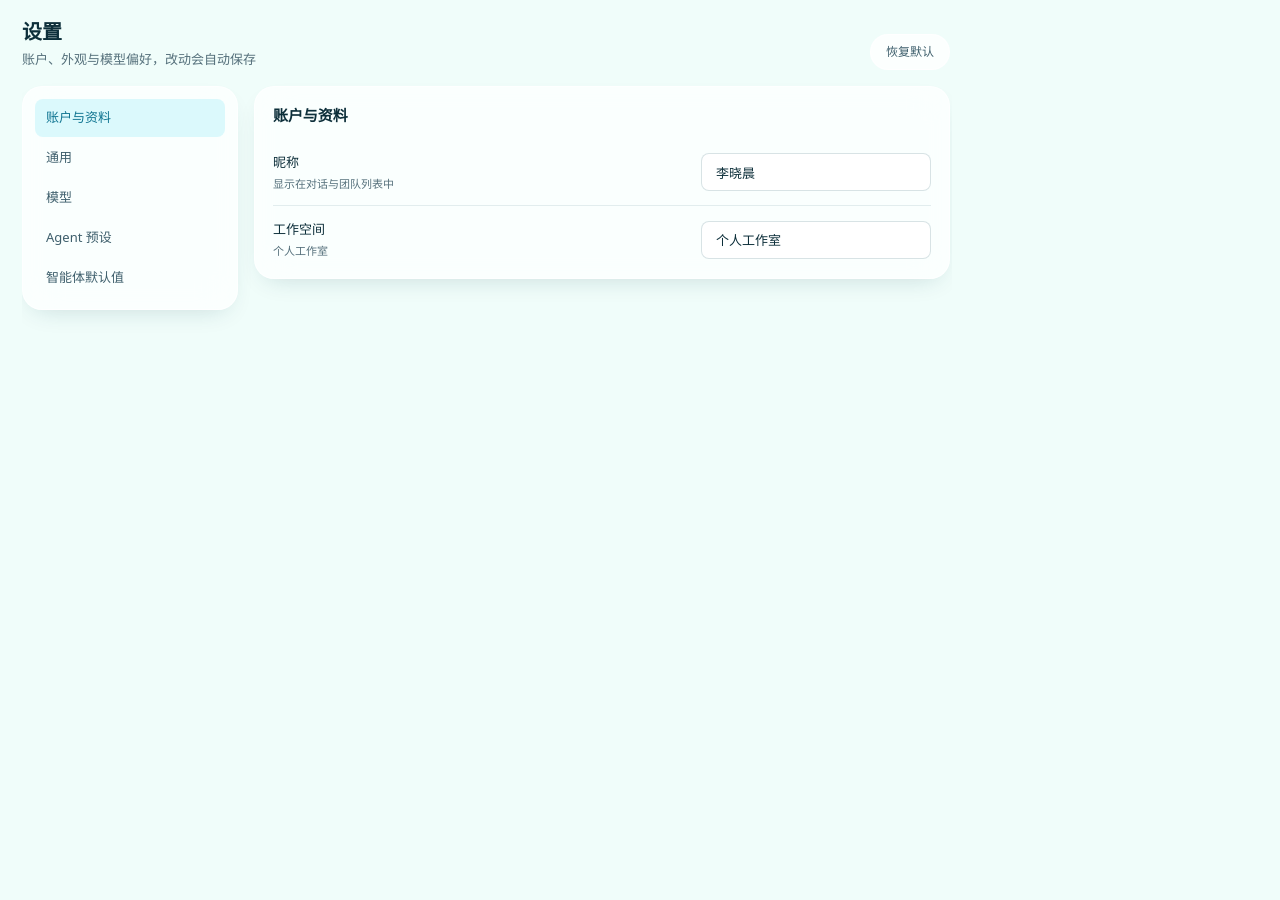
Scenario: the help dialog switches to 如何使用 without changing the default
The width and height of the screenshot is (1280, 900).
expect the heading "设置" is shown: met, box [22,18,62,45]
Click the button "Agent 预设" at (130, 238), box [35,219,225,257]
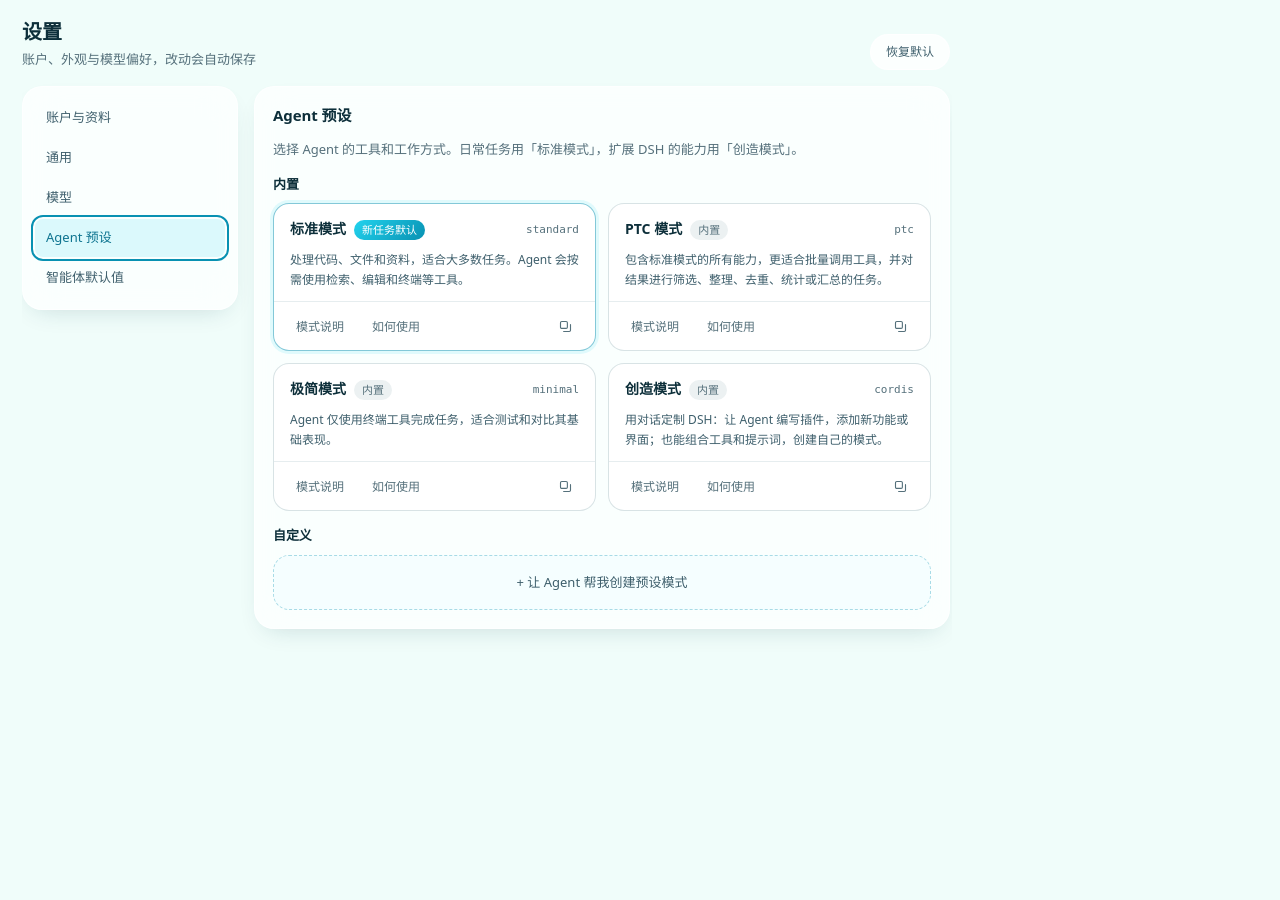
Click the 2nd button "如何使用" at (731, 326), box [701,316,761,337]
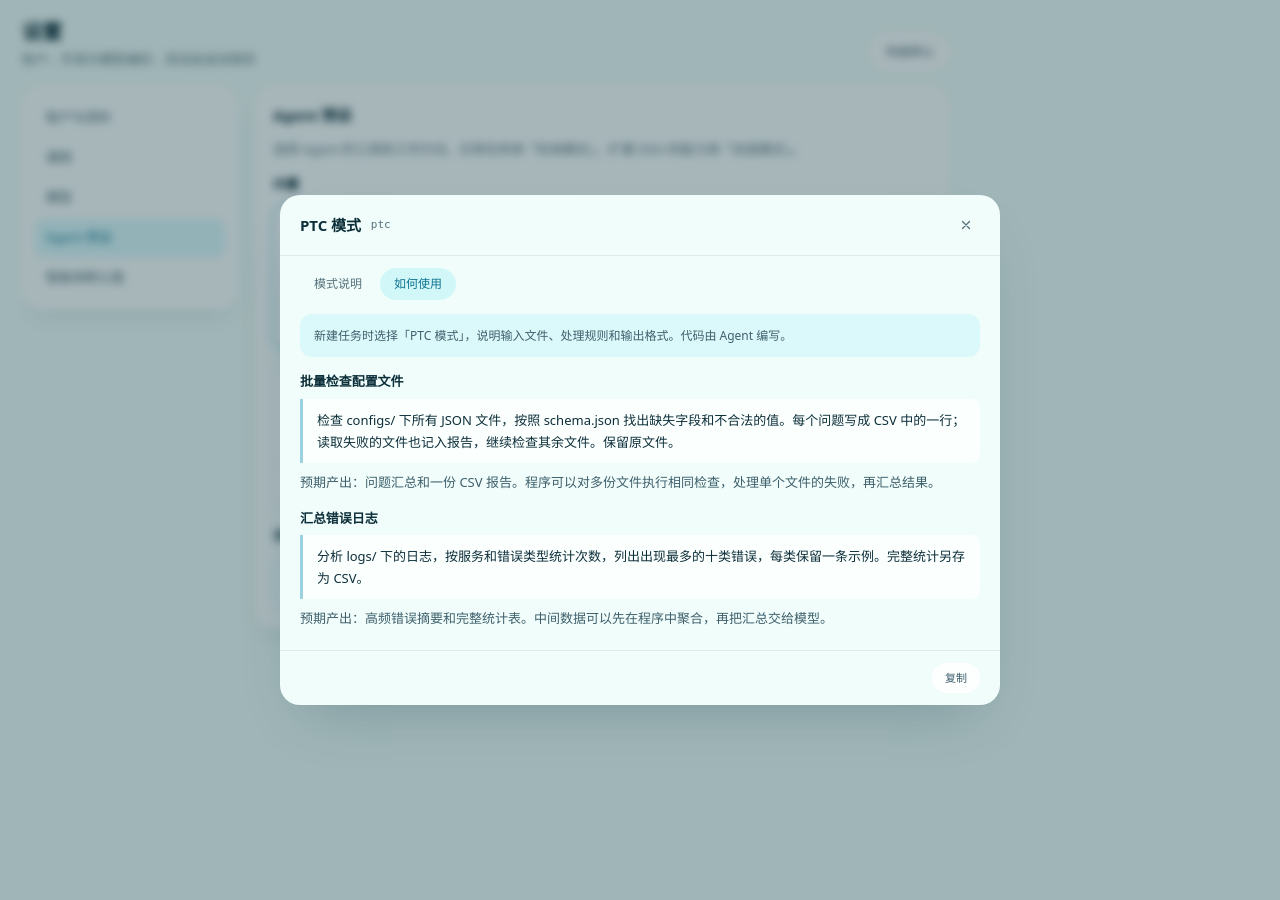
expect the heading "批量检查配置文件" is shown: met, box [300,372,404,390]
Click the tab "模式说明" at (338, 284), box [300,268,376,300]
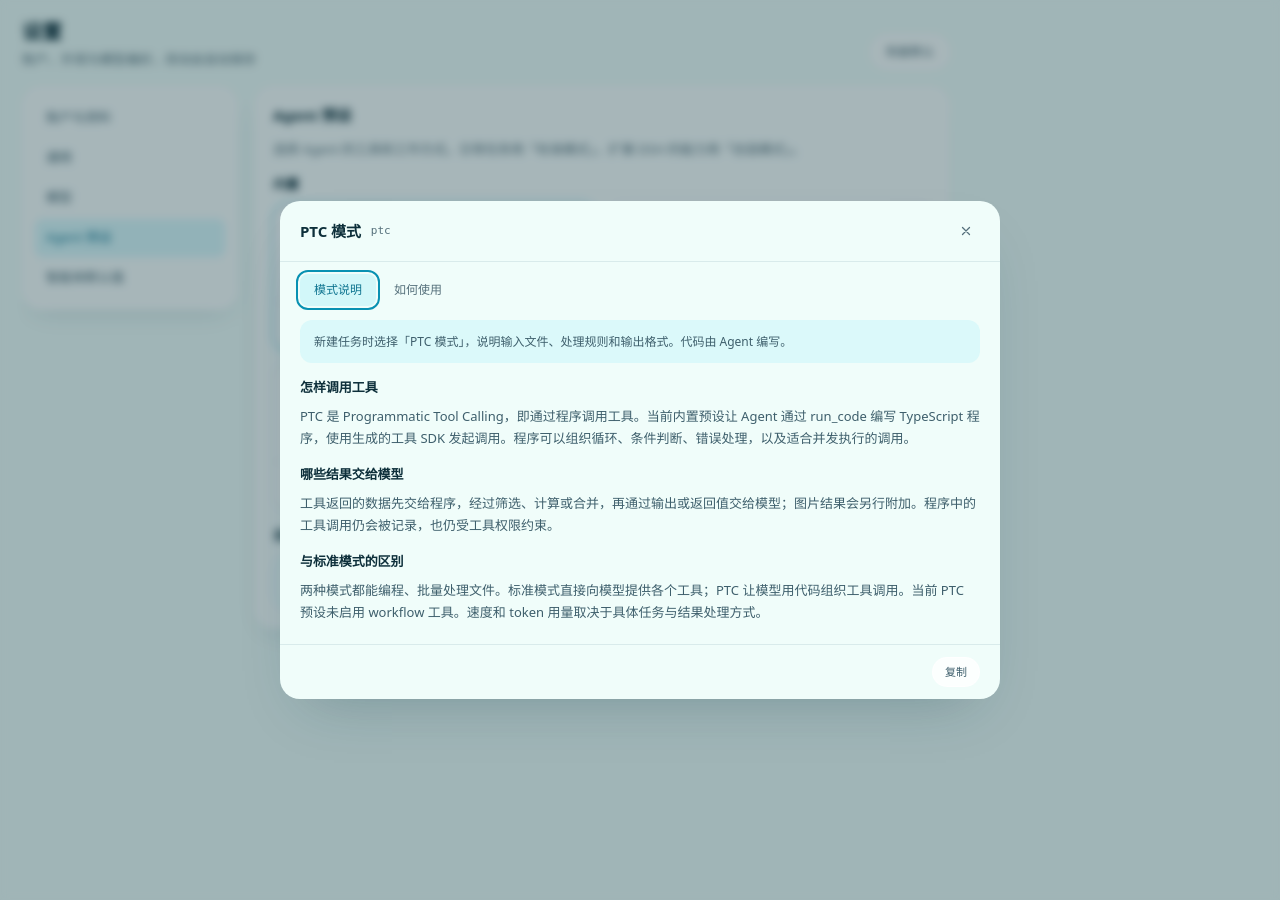
expect the text "新任务默认" shows "标准模式": met, box [274,204,595,301]
expect the text "Programmatic Tool Calling" is shown: met, box [300,407,980,447]
